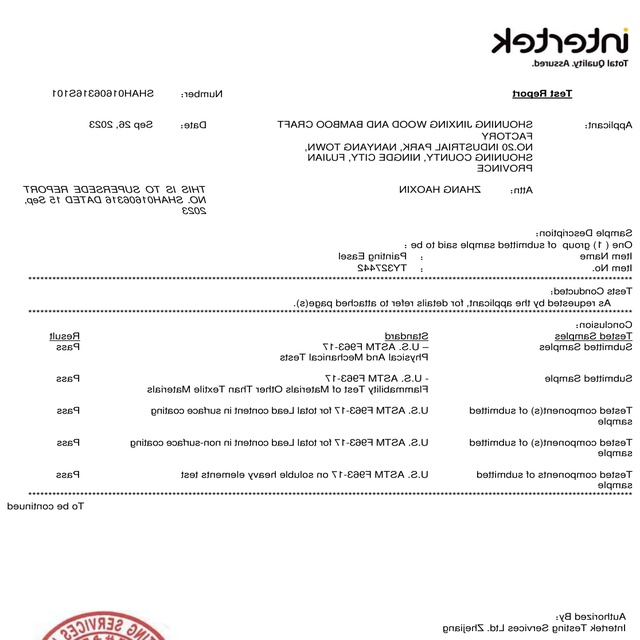intertek: (488, 24, 629, 56)
